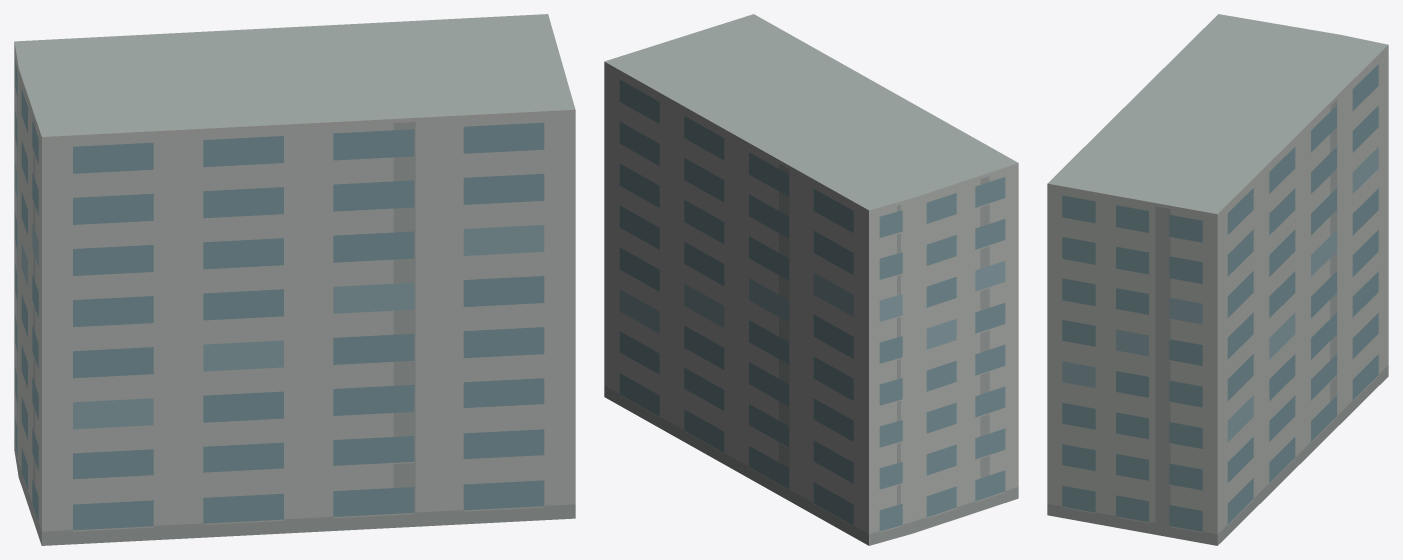
Rendered from residential-f0bc6ca0-cd98-4ce1-86af-dd64ef7384f1.glb.
The picture shows the model from 3 angles, left to right: view 1: azimuth 30°, elevation 25°; view 2: azimuth 150°, elevation 25°; view 3: azimuth 270°, elevation 25°; orthographic projection. The views are drawn at different scales.
Visible parts, largest first — view 1: residential-f0bc6ca0-cd98-4ce1-86af-dd64ef7384f1.tmp; view 2: residential-f0bc6ca0-cd98-4ce1-86af-dd64ef7384f1.tmp; view 3: residential-f0bc6ca0-cd98-4ce1-86af-dd64ef7384f1.tmp.
Part boxes in pixels (x1,y1,x2,y2): residential-f0bc6ca0-cd98-4ce1-86af-dd64ef7384f1.tmp: [14, 14, 575, 545]; residential-f0bc6ca0-cd98-4ce1-86af-dd64ef7384f1.tmp: [604, 14, 1018, 545]; residential-f0bc6ca0-cd98-4ce1-86af-dd64ef7384f1.tmp: [1047, 14, 1388, 545].
Size of the model in its own units: 31.6 by 24.4 by 22.75.
